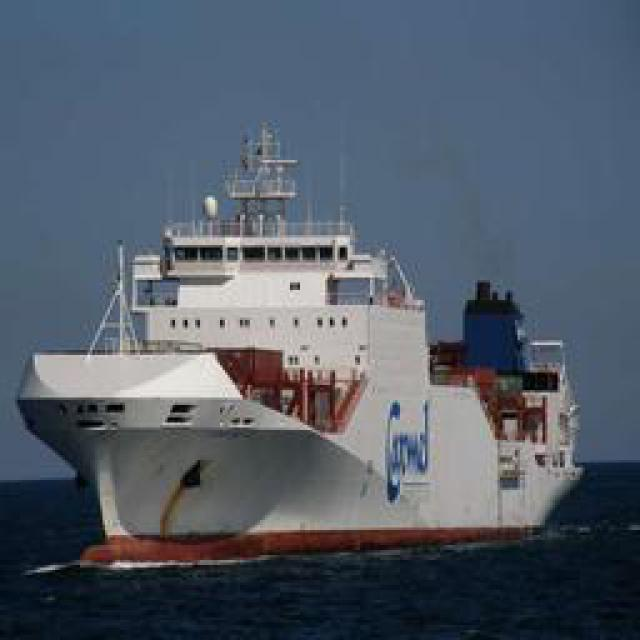Ship: (20, 108, 590, 563)
